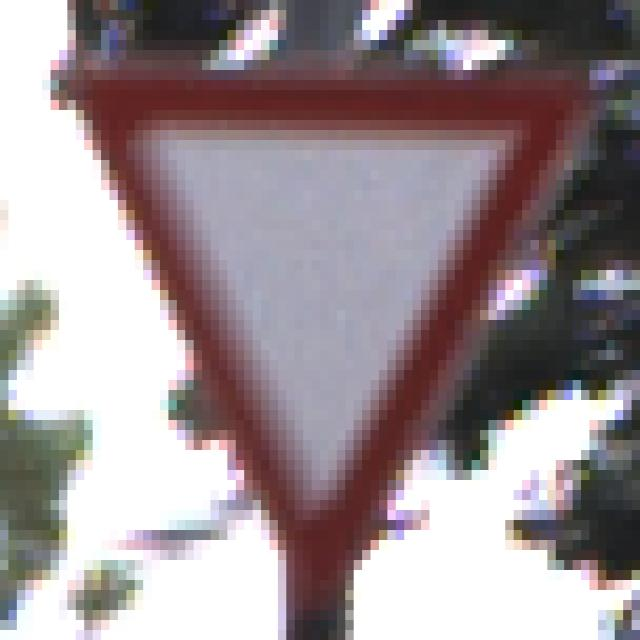Give Way: (60, 61, 590, 591)
